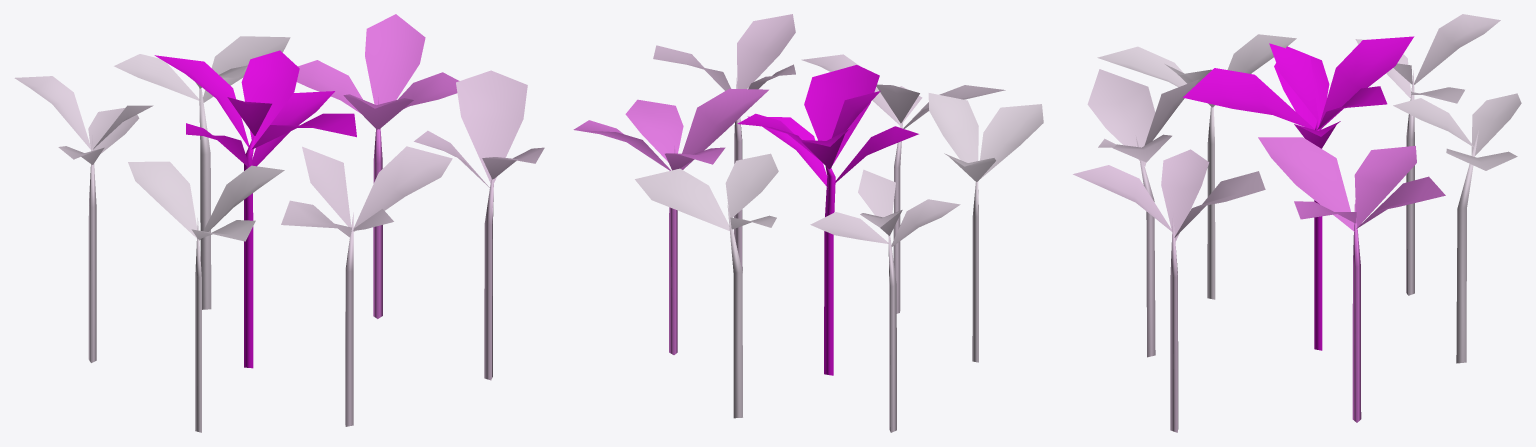
Rendered from G_BlueFlower_002_S1.FBX.
3 renders of one model, left to right at view 1: azimuth 30°, elevation 25°; view 2: azimuth 150°, elevation 25°; view 3: azimuth 270°, elevation 25°, orthographic. The views are drawn at different scales.
Visible parts, largest first — view 1: G_BlueFlower_002_S1_P01_LOD0; view 2: G_BlueFlower_002_S1_P01_LOD0; view 3: G_BlueFlower_002_S1_P01_LOD0.
Part boxes in pixels (left/top/right/bottom): G_BlueFlower_002_S1_P01_LOD0: left=14, top=14, right=544, bottom=432; G_BlueFlower_002_S1_P01_LOD0: left=573, top=14, right=1043, bottom=432; G_BlueFlower_002_S1_P01_LOD0: left=1073, top=14, right=1521, bottom=432.
Size of what is drawn, in the model's own units: 104 by 73.94 by 103.
